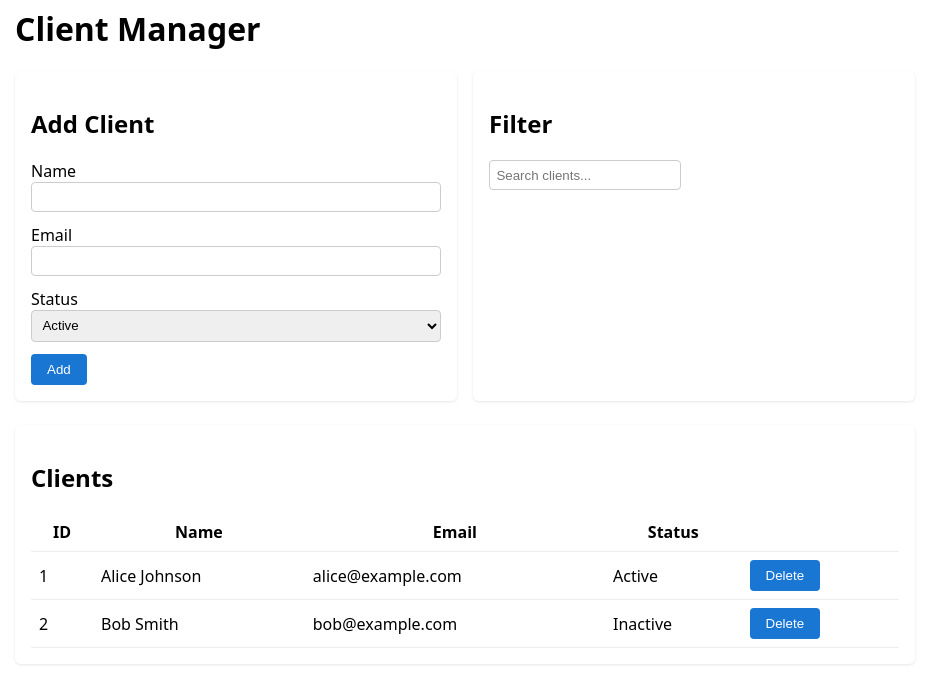
it: Client Manager › deletes a client
# click the button to delete
Click the button with test id "btn-delete-client" in the row of "Alice Johnson" at [786, 576], box 750,560 -> 821,591
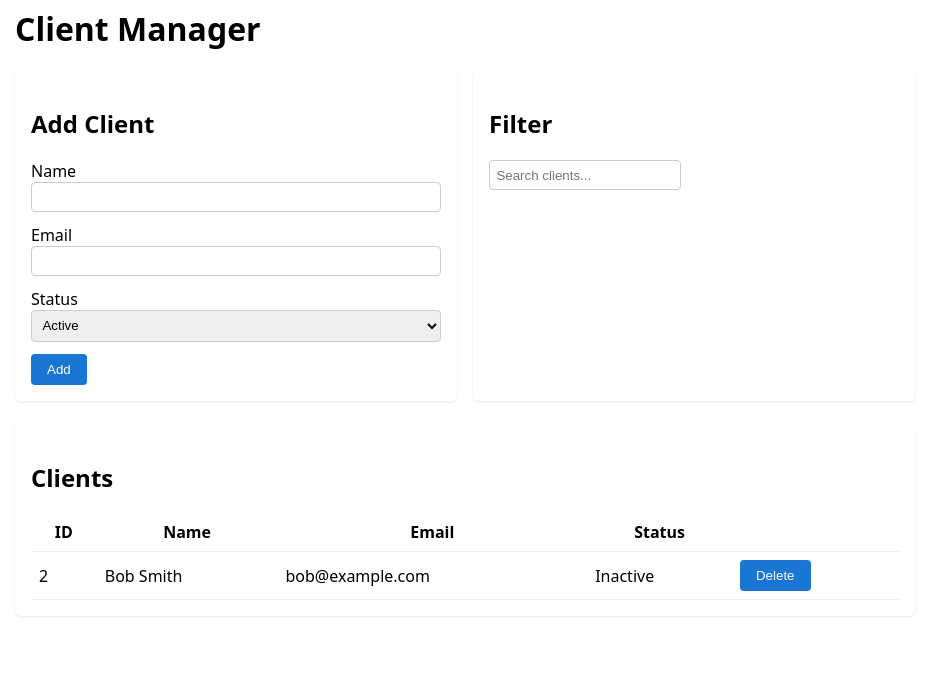
Check: the number of rows with test id "client-row" is 1, box 31,552 -> 899,600
